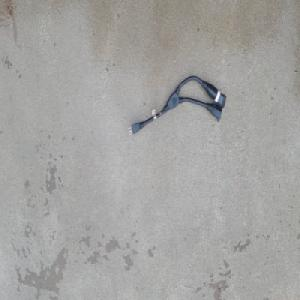Wire: (126, 75, 226, 137)
